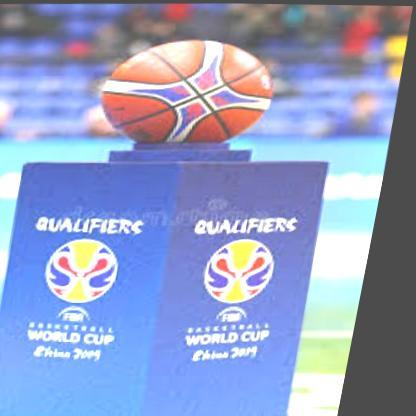basketball: (102, 37, 284, 143)
